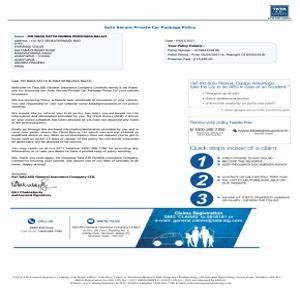text: (8, 78, 145, 170), (190, 81, 290, 113), (166, 42, 270, 61), (221, 154, 288, 167), (221, 173, 288, 185), (221, 194, 291, 203)
